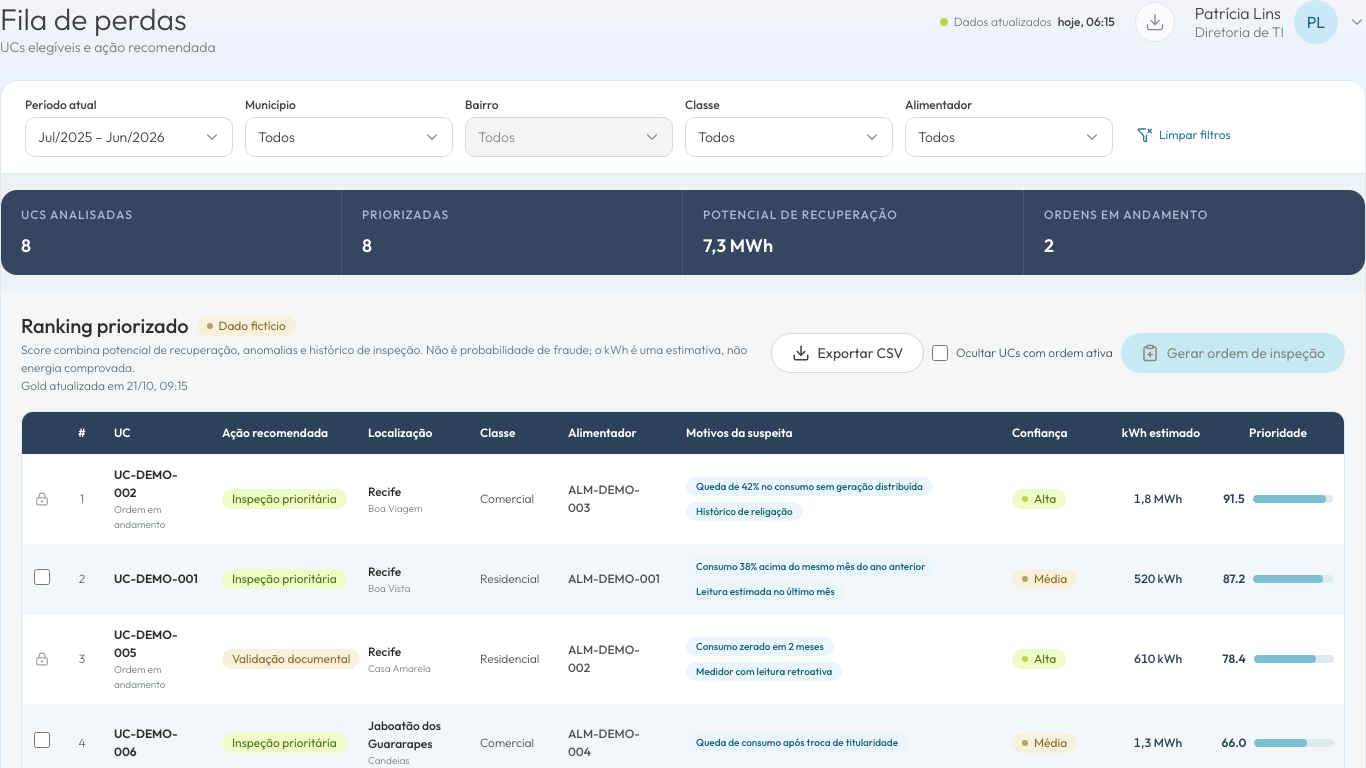
Test: FilaPage › lote recusado: avisa que nenhuma ordem foi criada e lista as UCs com problema
Click the checkbox named "Selecionar UC-DEMO-001": (42, 576) [34,568,50,584]
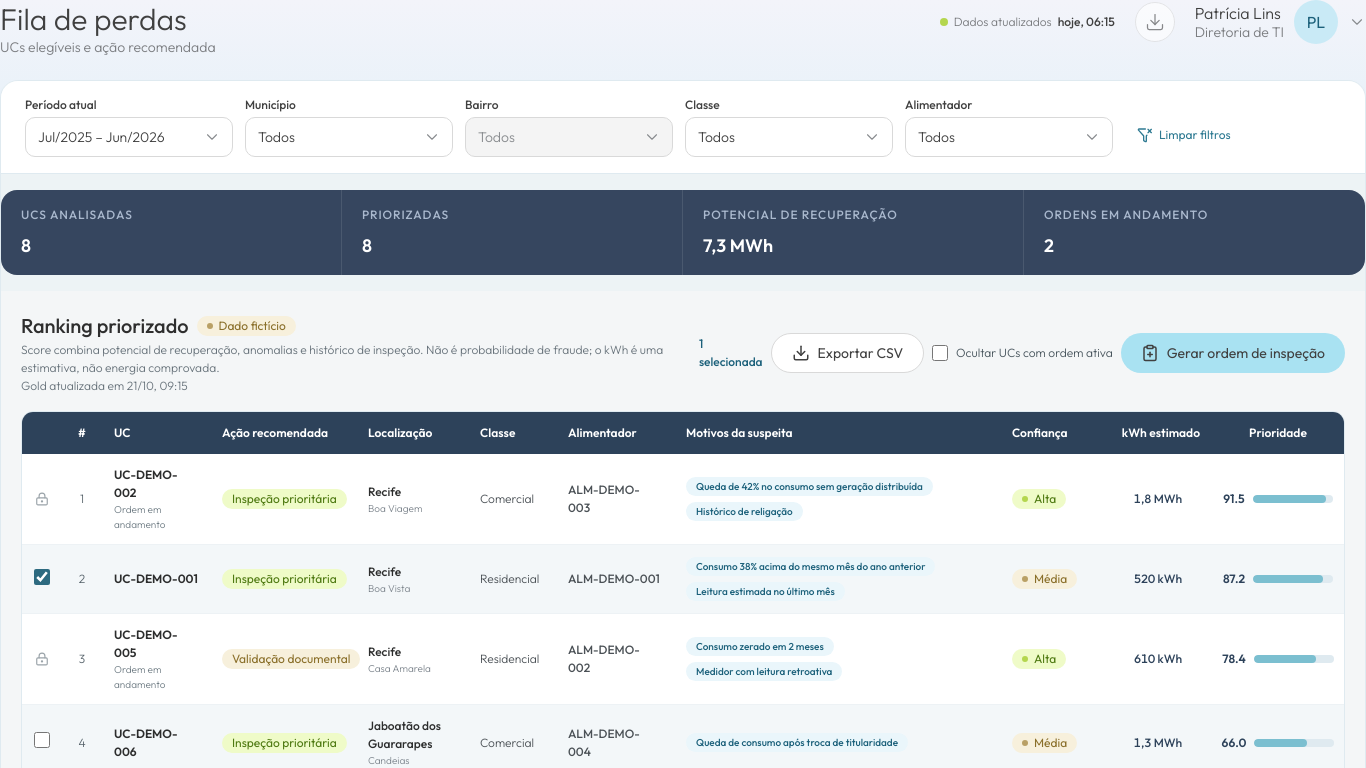
Click the button "Gerar ordem de inspeção": (1233, 353) [1121,333,1345,373]
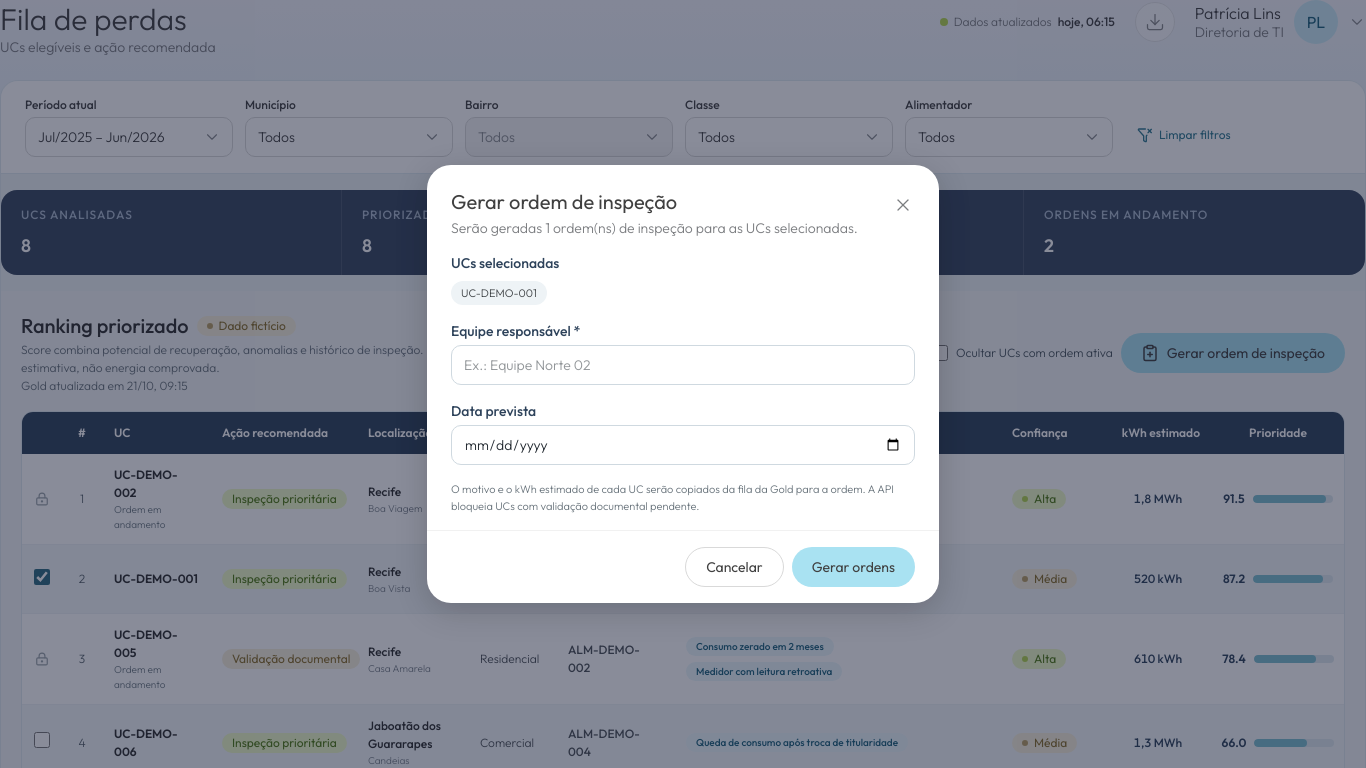
In the field labelled "Equipe responsável *": (683, 365) [451,345,915,385], type "Equipe Norte 02"
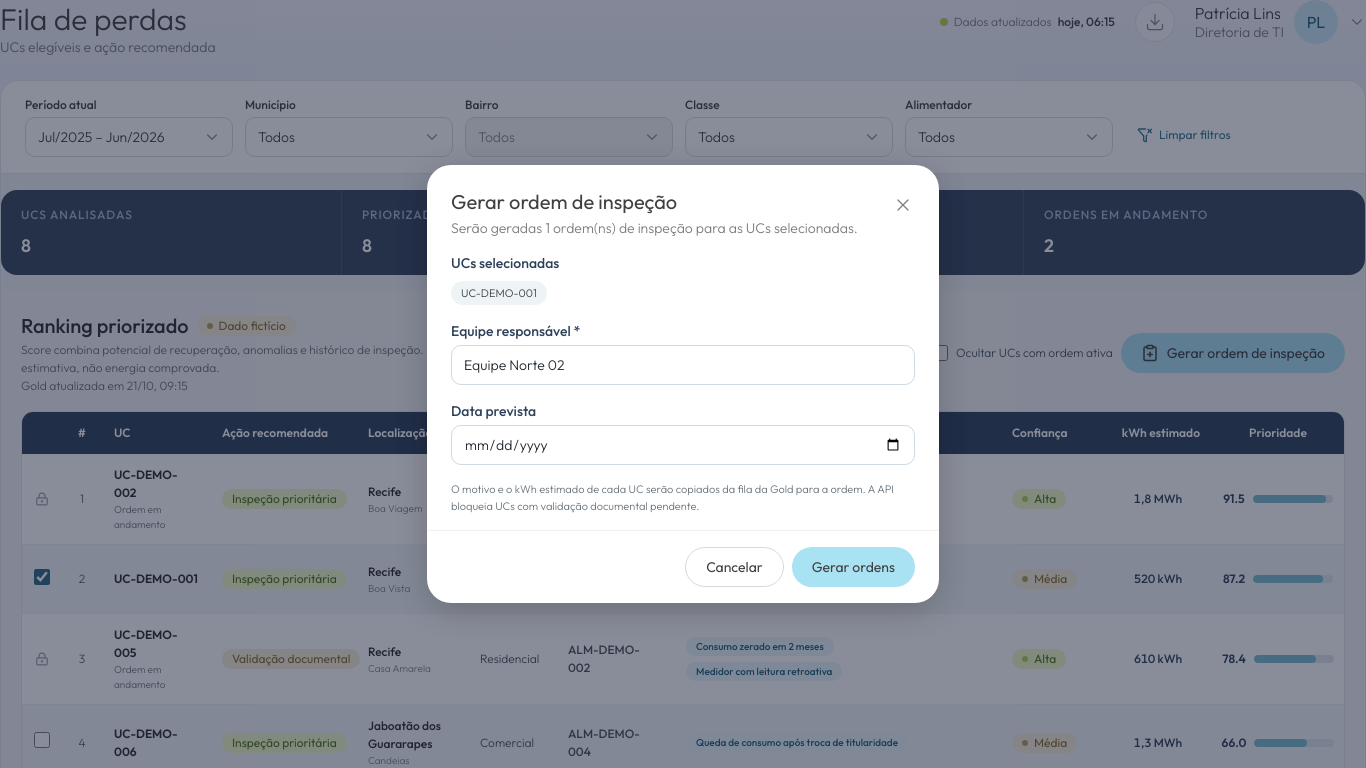
Click the button "Gerar ordens": (853, 567) [792,547,915,587]
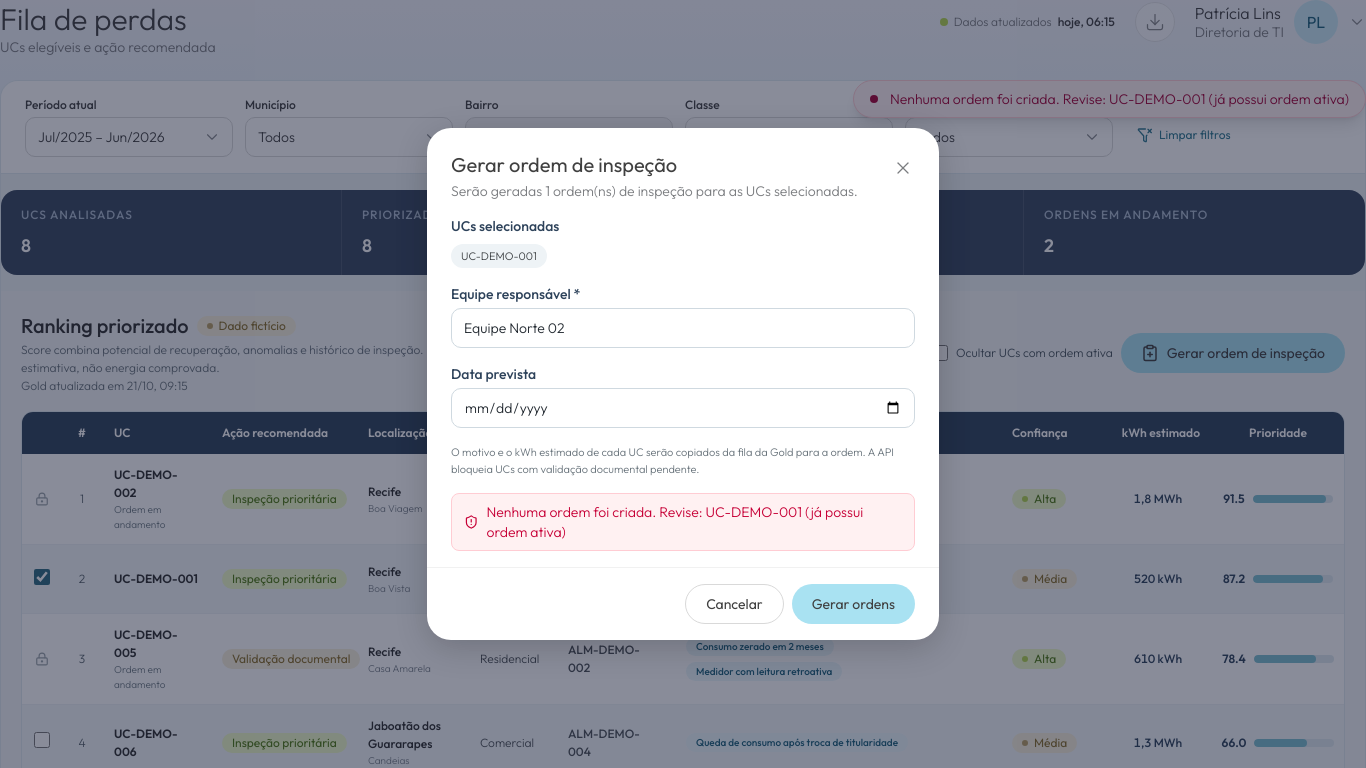
Result: the text "Nenhuma ordem foi criada. Revise: UC-DEMO-001 (já possui ordem ativa)" in the row of "Município" is shown at [890,90,1349,108]
